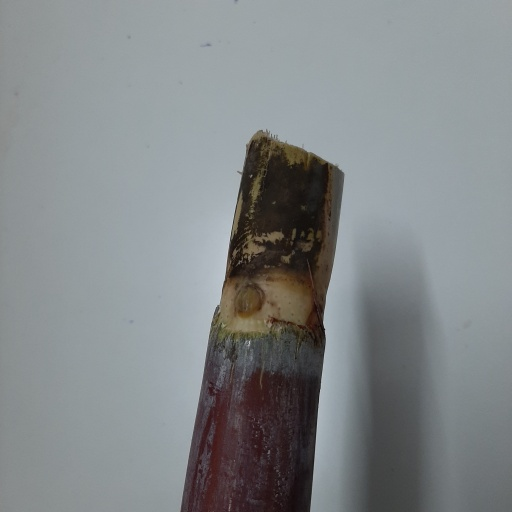Bud: (232, 284, 263, 320)
